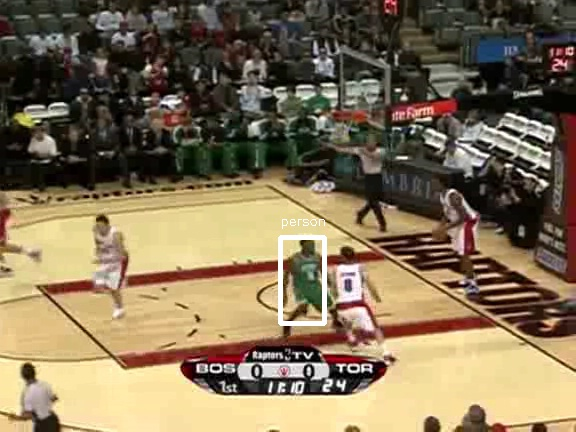person: (293, 243, 327, 324), (292, 243, 326, 324), (294, 243, 328, 324), (293, 242, 327, 323), (293, 244, 327, 325)
target_negative: (199, 40, 461, 236), (463, 169, 533, 342), (29, 266, 185, 316), (439, 265, 513, 306), (12, 235, 23, 429)
